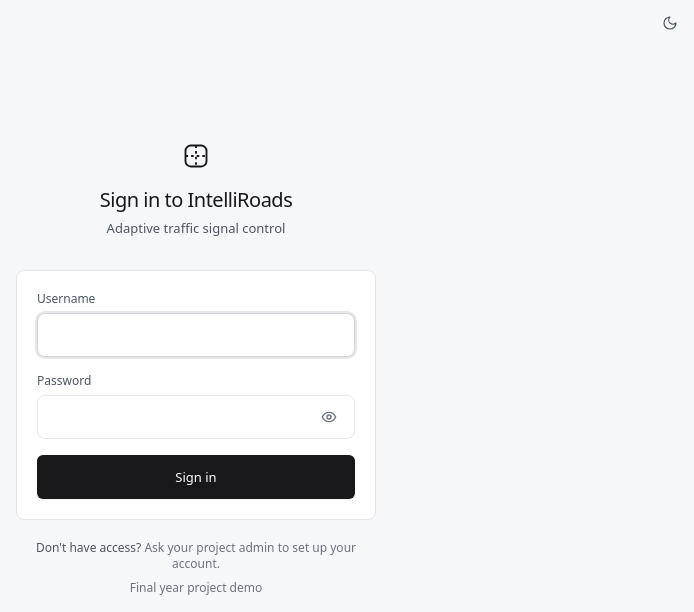
LoginPage component › toggles password input type between password and text when show-password button is clicked
The width and height of the screenshot is (694, 612).
# Click to show password
What coordinates should you click on to do the following:
click the button named "show password"
I would click on:
 (329, 417)
Its box is left=307, top=395, right=351, bottom=439.
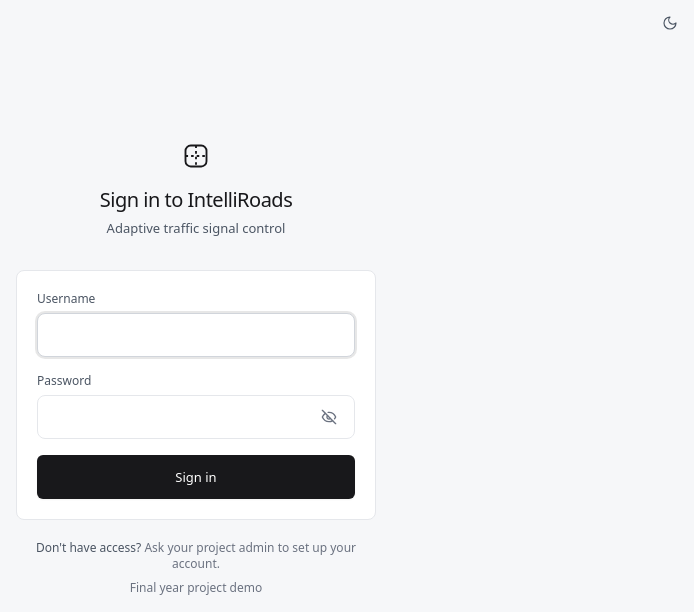
Result: the button named "hide password" is shown
# Click again to hide password
What coordinates should you click on to do the following:
click the button named "hide password"
I would click on:
 (329, 417)
Its box is left=307, top=395, right=351, bottom=439.
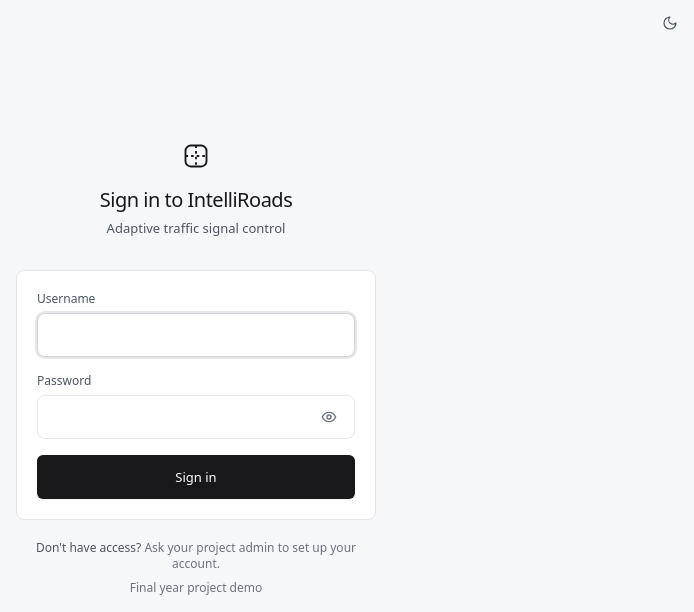
Result: the button named "show password" is shown at left=307, top=395, right=351, bottom=439
